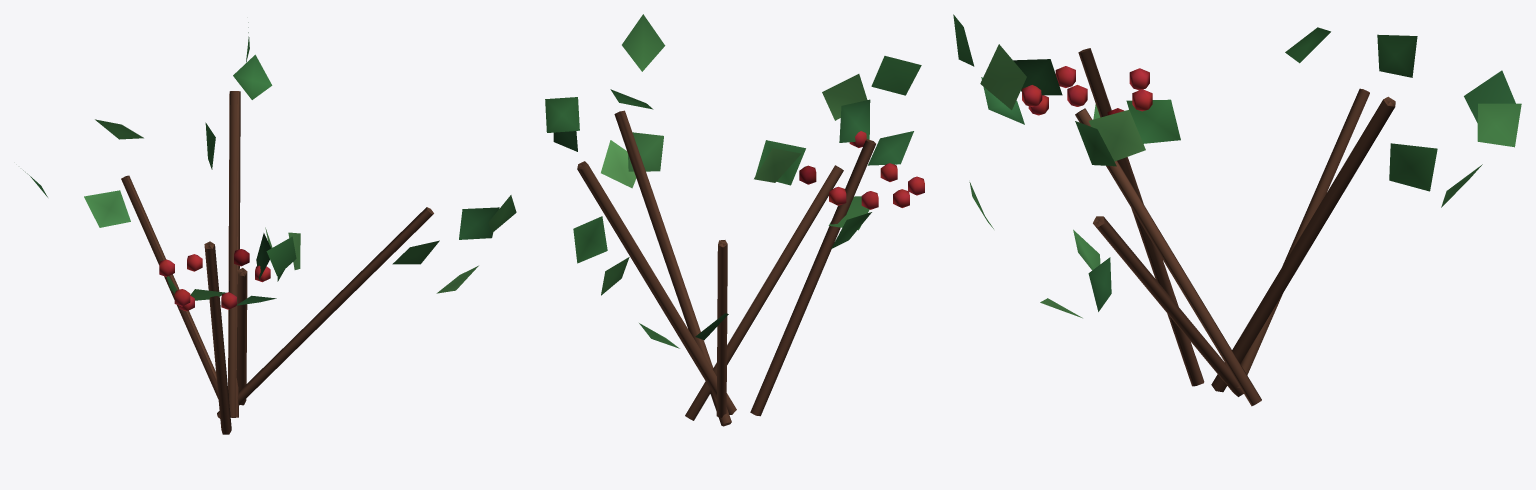
Rendered from mature-lod2.glb.
3 renders of one model, left to right at view 1: azimuth 30°, elevation 25°; view 2: azimuth 150°, elevation 25°; view 3: azimuth 270°, elevation 25°, orthographic. The views are drawn at different scales.
Parts seen in each view (by area): view 1: redberry-buried-stems-ground-blend-and-fruit, redberry-individual-ovate-leaves; view 2: redberry-buried-stems-ground-blend-and-fruit, redberry-individual-ovate-leaves; view 3: redberry-buried-stems-ground-blend-and-fruit, redberry-individual-ovate-leaves.
Boxes of the visible parts, x1,y1,x2,y2 form: redberry-buried-stems-ground-blend-and-fruit: [121, 91, 433, 434]; redberry-individual-ovate-leaves: [23, 22, 516, 305]; redberry-buried-stems-ground-blend-and-fruit: [577, 110, 924, 426]; redberry-individual-ovate-leaves: [545, 14, 921, 348]; redberry-buried-stems-ground-blend-and-fruit: [1022, 48, 1395, 406]; redberry-individual-ovate-leaves: [953, 14, 1521, 318].
Bounding box in the file's own units: 2.31 × 2.16 × 2.66.
